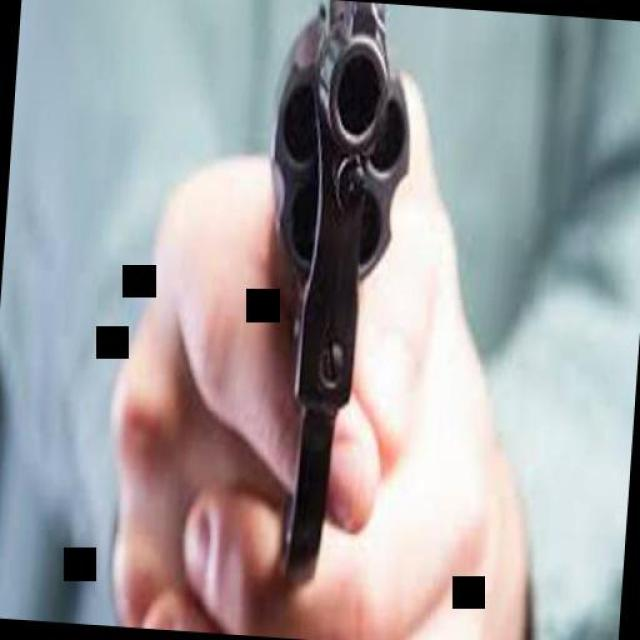gun: (242, 0, 413, 581)
